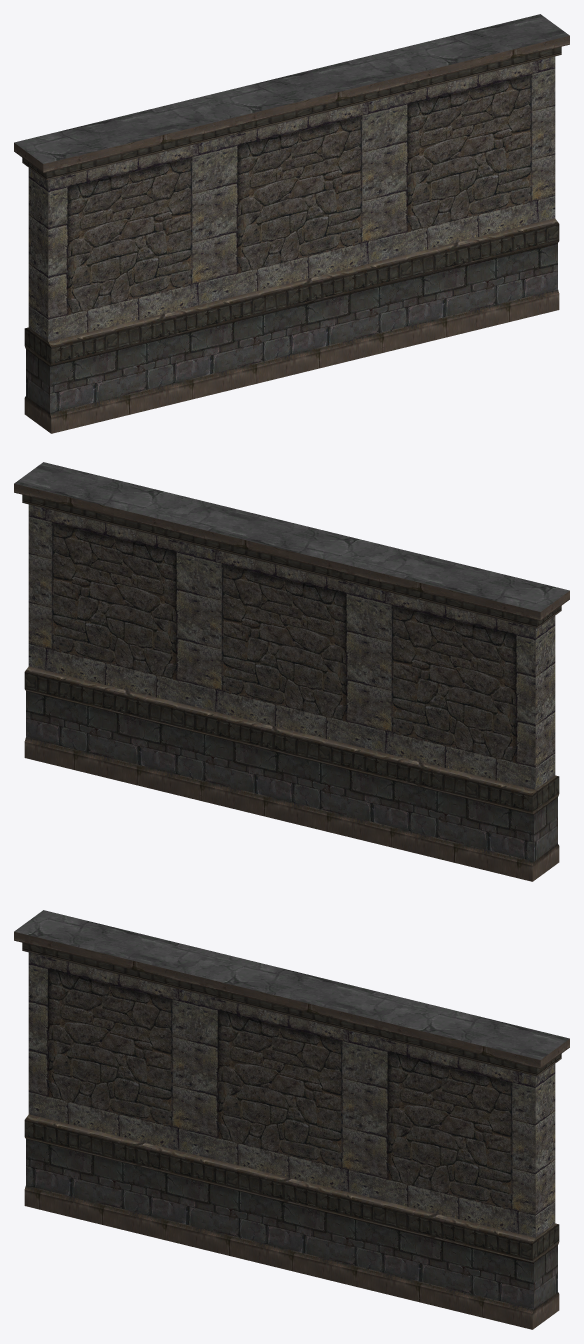
Rendered from environment_Building_qiaoliang_006_c.FBX.
3 renders of one model, top to bottom at view 1: azimuth 30°, elevation 25°; view 2: azimuth 150°, elevation 25°; view 3: azimuth 330°, elevation 25°, orthographic.
Visible parts, largest first — view 1: environment_Building_qiaoliang_006_c1, environment_Building_qiaoliang_006_c2; view 2: environment_Building_qiaoliang_006_c1, environment_Building_qiaoliang_006_c2; view 3: environment_Building_qiaoliang_006_c1, environment_Building_qiaoliang_006_c2.
Part boxes in pixels (x1=…): environment_Building_qiaoliang_006_c1: x1=28, y1=56, x2=555, y2=341; environment_Building_qiaoliang_006_c2: x1=14, y1=14, x2=569, y2=433; environment_Building_qiaoliang_006_c1: x1=28, y1=504, x2=555, y2=789; environment_Building_qiaoliang_006_c2: x1=14, y1=462, x2=569, y2=881; environment_Building_qiaoliang_006_c1: x1=28, y1=952, x2=555, y2=1237; environment_Building_qiaoliang_006_c2: x1=14, y1=910, x2=569, y2=1329.
Bounding box in the file's own units: 766 × 380 × 74.35.
